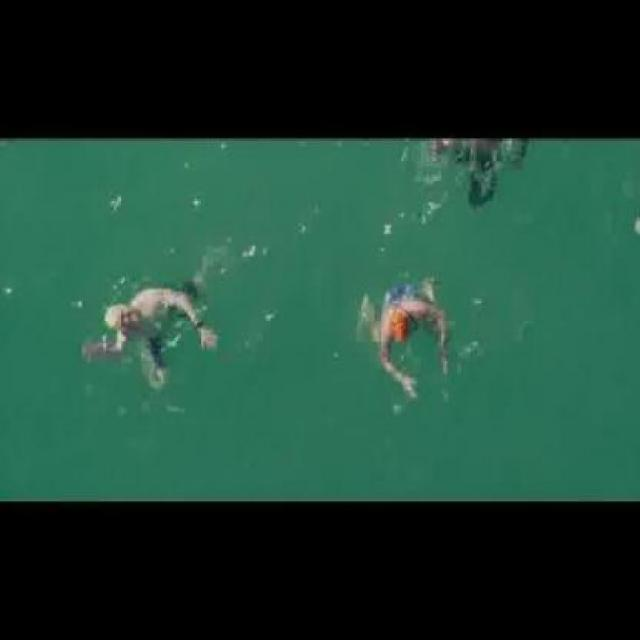Out of Water: (73, 257, 220, 409), (337, 264, 471, 405)
